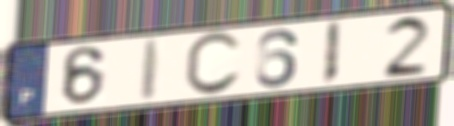2: (376, 14, 435, 78)
6: (57, 45, 109, 108), (254, 27, 301, 89)
C: (181, 29, 245, 99)
I: (138, 36, 166, 103), (319, 19, 345, 88)
